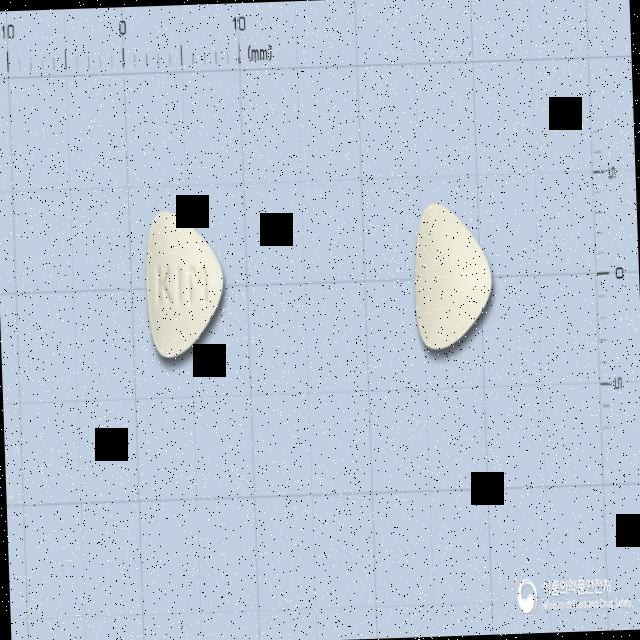Kimara: (143, 208, 227, 360)
